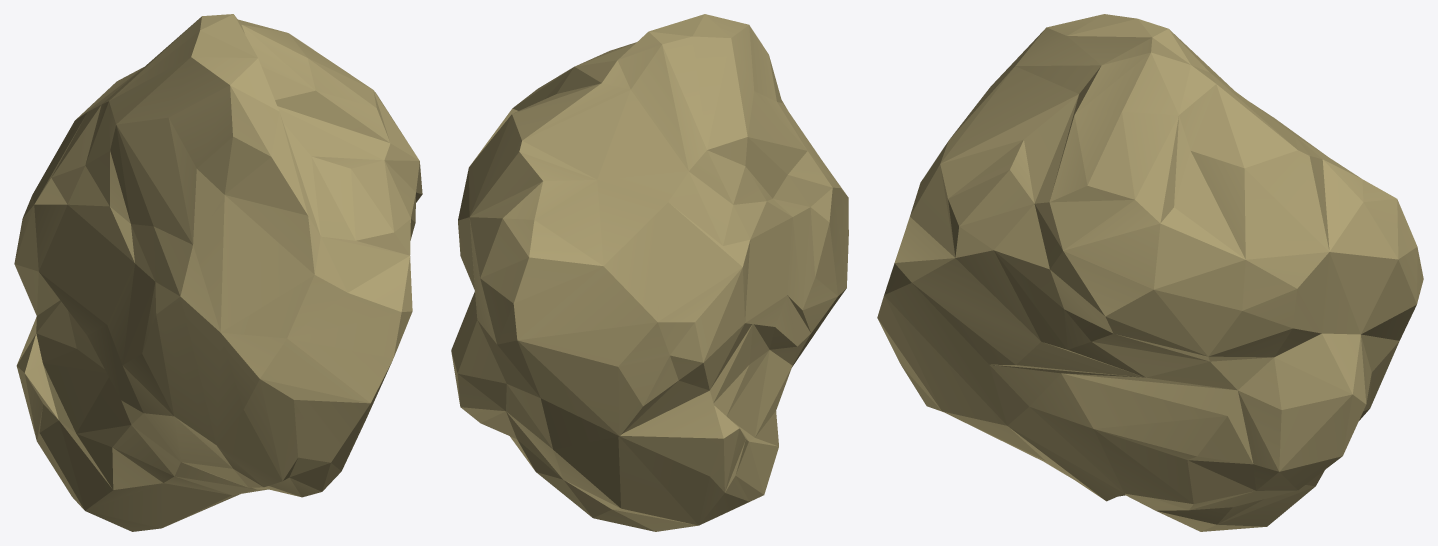
The model's file is SM_rock_05.fbx.
The picture shows the model from 3 angles, left to right: view 1: azimuth 30°, elevation 25°; view 2: azimuth 150°, elevation 25°; view 3: azimuth 270°, elevation 25°; orthographic projection. The views are drawn at different scales.
Visible parts, largest first — view 1: rock_05; view 2: rock_05; view 3: rock_05.
Boxes of the visible parts, x1,y1,x2,y2 form: rock_05: [14, 14, 422, 531]; rock_05: [451, 14, 848, 531]; rock_05: [877, 14, 1423, 531].
Size of the model in its own units: 303 by 467 by 452.
